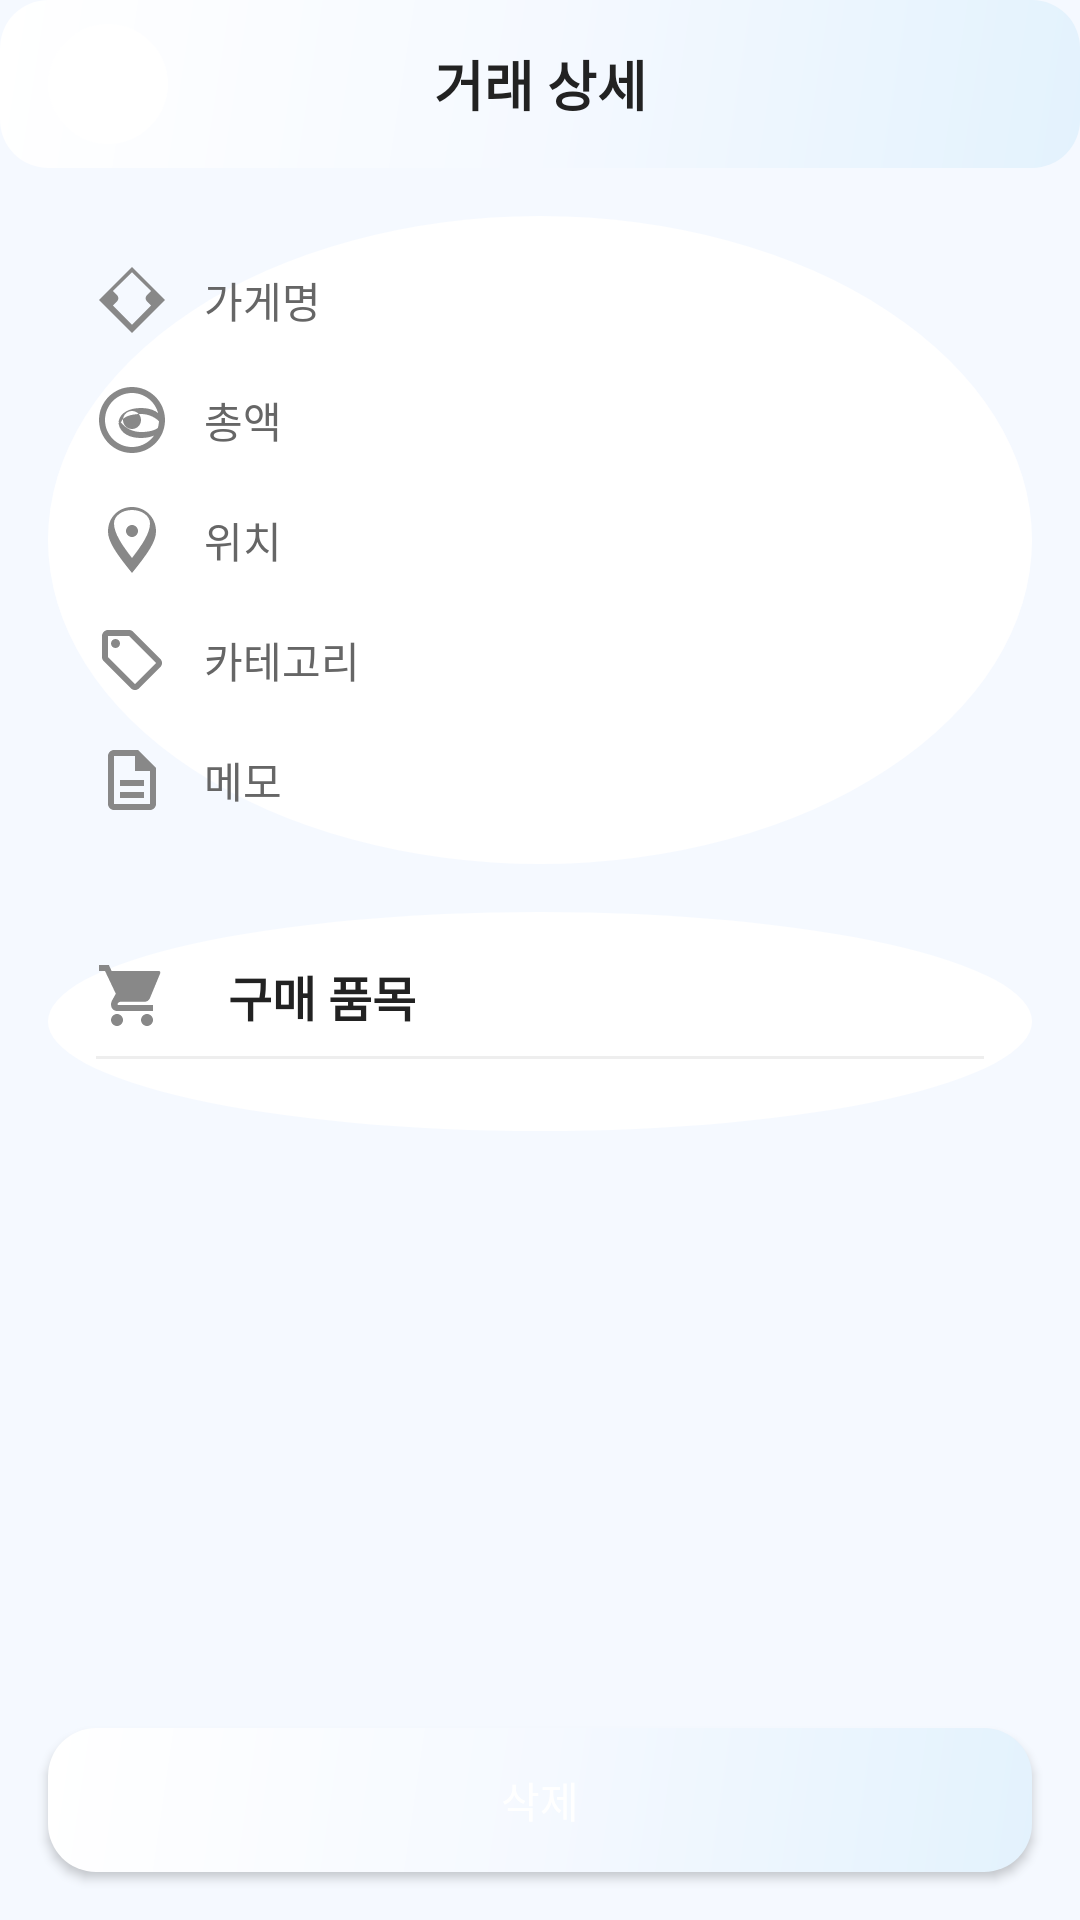

Where icons sit on this 1080 × 1920 app screen, as (x1, y1, x2, y2):
category: (102, 630, 162, 690)
map pin: (108, 507, 156, 573)
memo: (108, 750, 156, 810)
shopping cart: (99, 965, 161, 1026)
